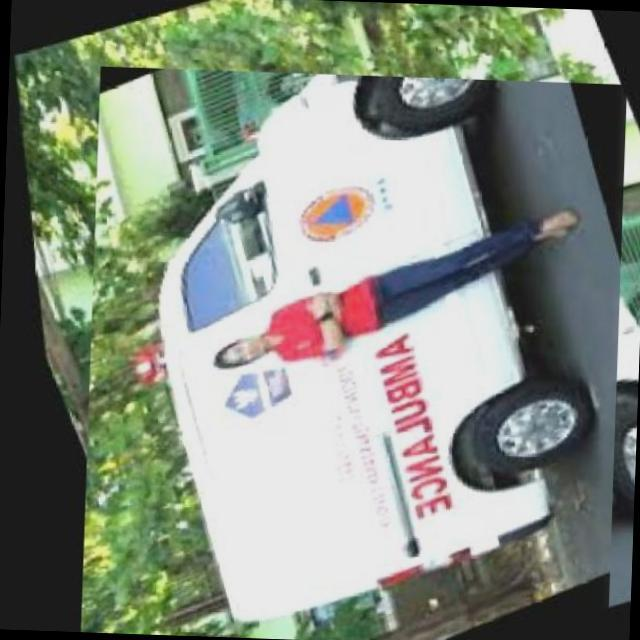emergency-vehicle: (61, 84, 640, 640)
